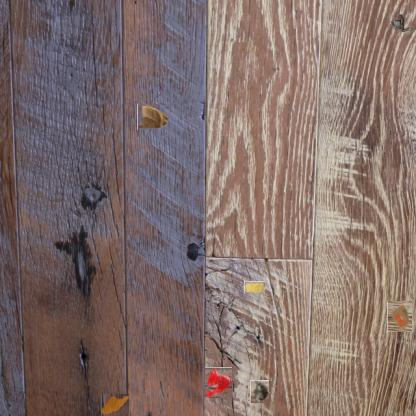dirty: (137, 104, 170, 130), (385, 302, 414, 331), (389, 12, 415, 36), (249, 381, 270, 402), (244, 281, 265, 294)
liquid: (204, 368, 233, 397), (101, 394, 129, 416)
